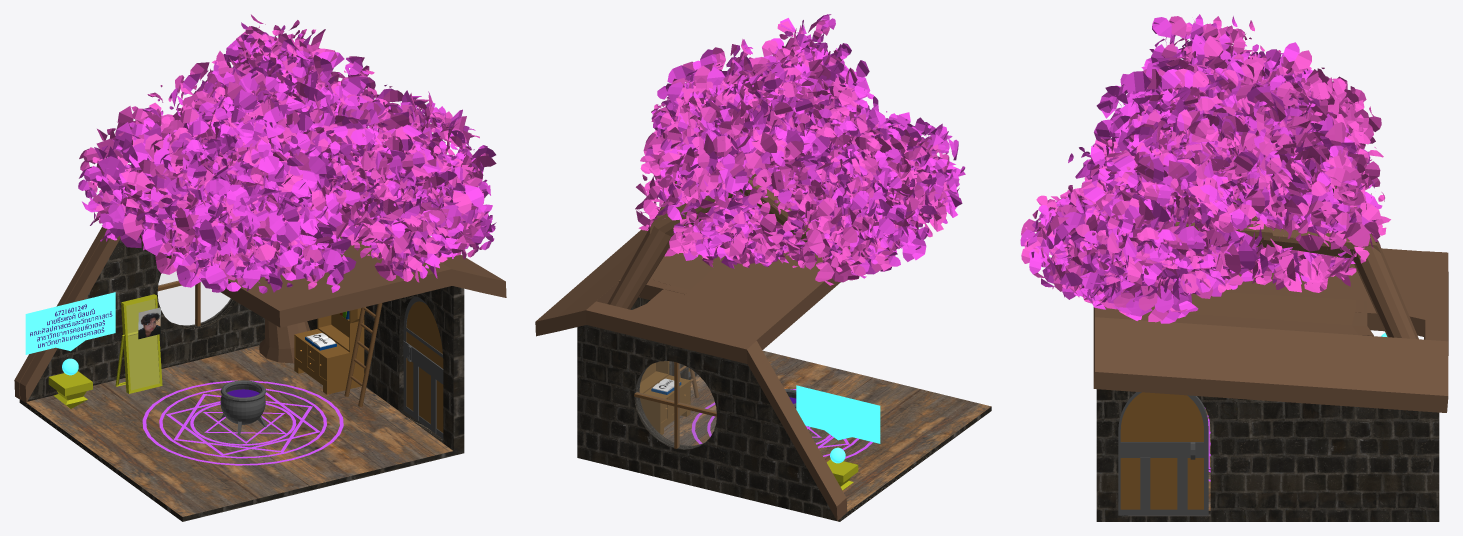
The model's file is Magic.glb.
3 renders of one model, left to right at view 1: azimuth 30°, elevation 25°; view 2: azimuth 150°, elevation 25°; view 3: azimuth 270°, elevation 25°, orthographic. The views are drawn at different scales.
Visible parts, largest first — view 1: Icosphere.001, Icosphere.002, Plane.001, Plane, Cube.017, Cube.006, Plane.004, Cube.004, Cube.016, Glass, Cube.011, Cube.005 (+10 smaller); view 2: Icosphere.002, Icosphere.001, Plane, Cube.017, Plane.001, Glass, Cube.003, Plane.004, Cube.006, Plane.003, Cube; view 3: Icosphere.002, Cube.017, Icosphere.001, Plane, Cube.016, Cube.003, Cube.011.
Boxes of the visible parts, left/top/right/bottom form: Icosphere.001: left=78, top=22, right=496, bottom=293; Icosphere.002: left=79, top=14, right=496, bottom=289; Plane.001: left=26, top=345, right=452, bottom=516; Plane: left=19, top=239, right=464, bottom=521; Cube.017: left=14, top=222, right=506, bottom=402; Cube.006: left=294, top=308, right=364, bottom=394; Plane.004: left=25, top=292, right=115, bottom=354; Cube.004: left=115, top=294, right=162, bottom=393; Cube.016: left=406, top=301, right=443, bottom=432; Glass: left=158, top=272, right=230, bottom=325; Cube.011: left=403, top=296, right=443, bottom=438; Cube.005: left=126, top=299, right=159, bottom=389; Icosphere.002: left=635, top=20, right=950, bottom=285; Icosphere.001: left=645, top=14, right=965, bottom=278; Plane: left=577, top=297, right=991, bottom=521; Cube.017: left=535, top=229, right=850, bottom=520; Plane.001: left=662, top=350, right=991, bottom=511; Glass: left=635, top=361, right=716, bottom=448; Cube.003: left=607, top=173, right=810, bottom=309; Plane.004: left=796, top=385, right=880, bottom=443; Cube.006: left=639, top=361, right=690, bottom=434; Plane.003: left=634, top=362, right=716, bottom=448; Cube: left=826, top=459, right=858, bottom=490; Icosphere.002: left=1021, top=16, right=1390, bottom=322; Cube.017: left=1093, top=248, right=1448, bottom=412; Icosphere.001: left=1020, top=14, right=1382, bottom=323; Plane: left=1096, top=389, right=1439, bottom=521; Cube.016: left=1120, top=392, right=1203, bottom=509; Cube.003: left=1175, top=185, right=1418, bottom=339; Cube.011: left=1118, top=392, right=1208, bottom=515.
Bounding box in the file's own units: 24.64 × 28.12 × 24.99.
Materials: 25 (4 with a texture image).
